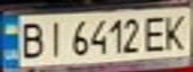1: (106, 16, 127, 55)
2: (121, 15, 145, 55)
4: (87, 16, 109, 56)
6: (66, 17, 90, 57)
B: (15, 18, 48, 61)
E: (142, 12, 169, 53)
I: (42, 17, 69, 59)
K: (160, 10, 193, 52)
